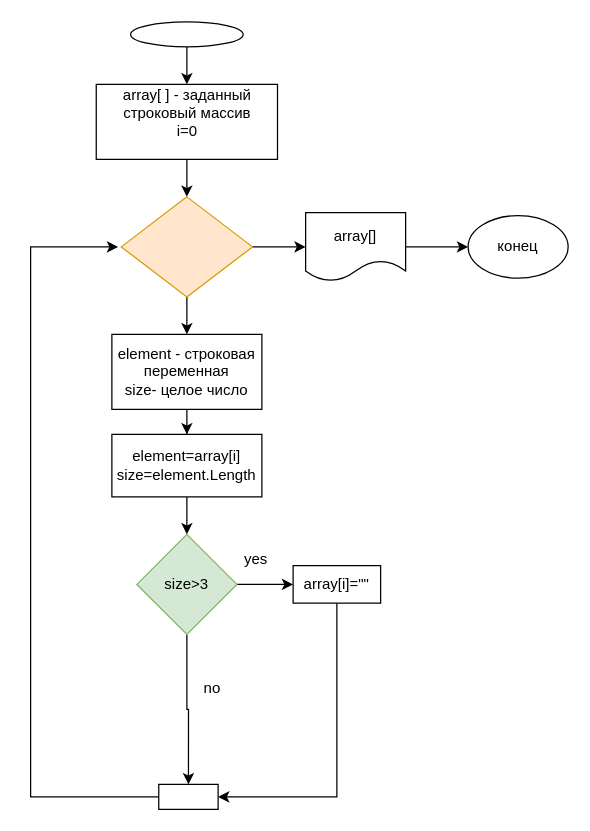
Image size: 590x831. Some labels were removed from this diagram. Here are the shapes that lost their labels. From the top down, the centre of each, then its label:
At point 186,34: "начало".
At point 186,246: "i<array.Length".
At point 188,796: "i++".
